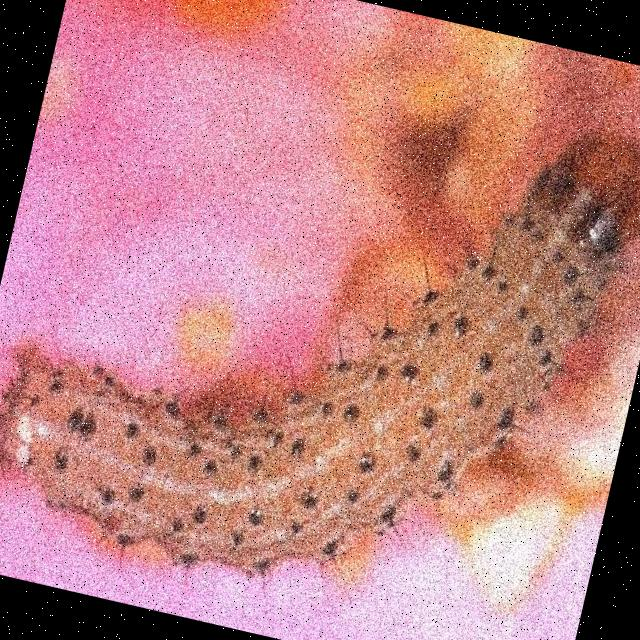worm: (1, 8, 640, 640)
